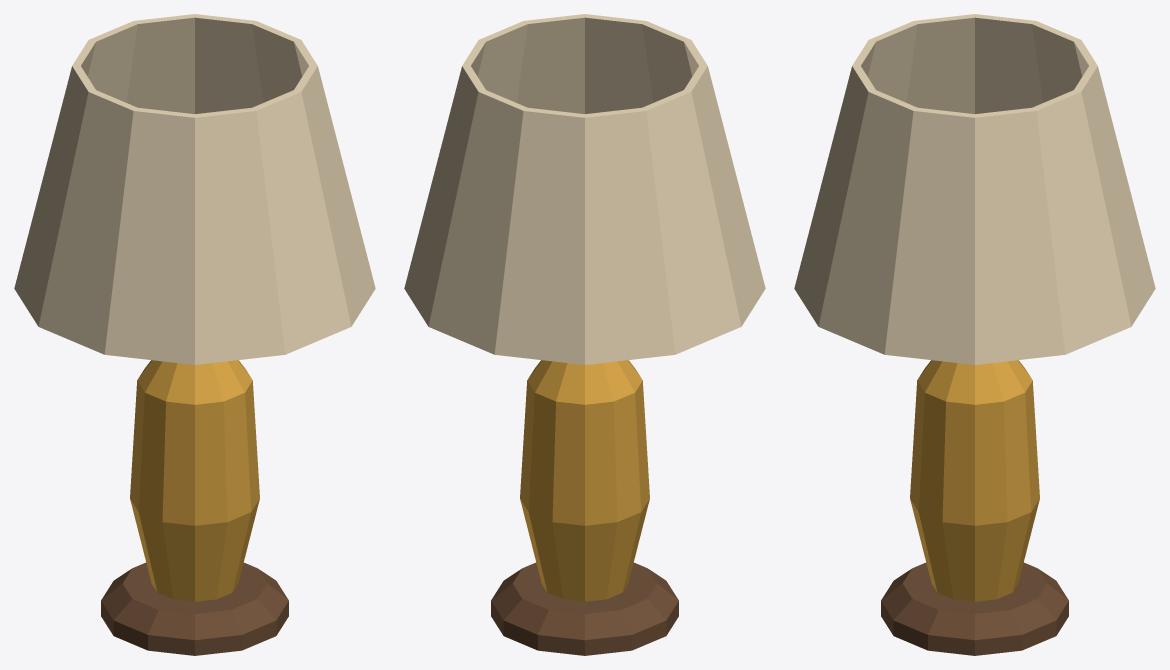
File: Lamparita.fbx
The picture shows the model from 3 angles, left to right: view 1: azimuth 30°, elevation 25°; view 2: azimuth 150°, elevation 25°; view 3: azimuth 270°, elevation 25°; orthographic projection.
Visible parts, largest first — view 1: Deco_Velador; view 2: Deco_Velador; view 3: Deco_Velador.
Boxes of the visible parts, x1=… form: Deco_Velador: x1=14, y1=14, x2=375, y2=655; Deco_Velador: x1=404, y1=14, x2=765, y2=655; Deco_Velador: x1=794, y1=14, x2=1155, y2=655.
Bounding box in the file's own units: 0.25 × 0.42 × 0.25.
